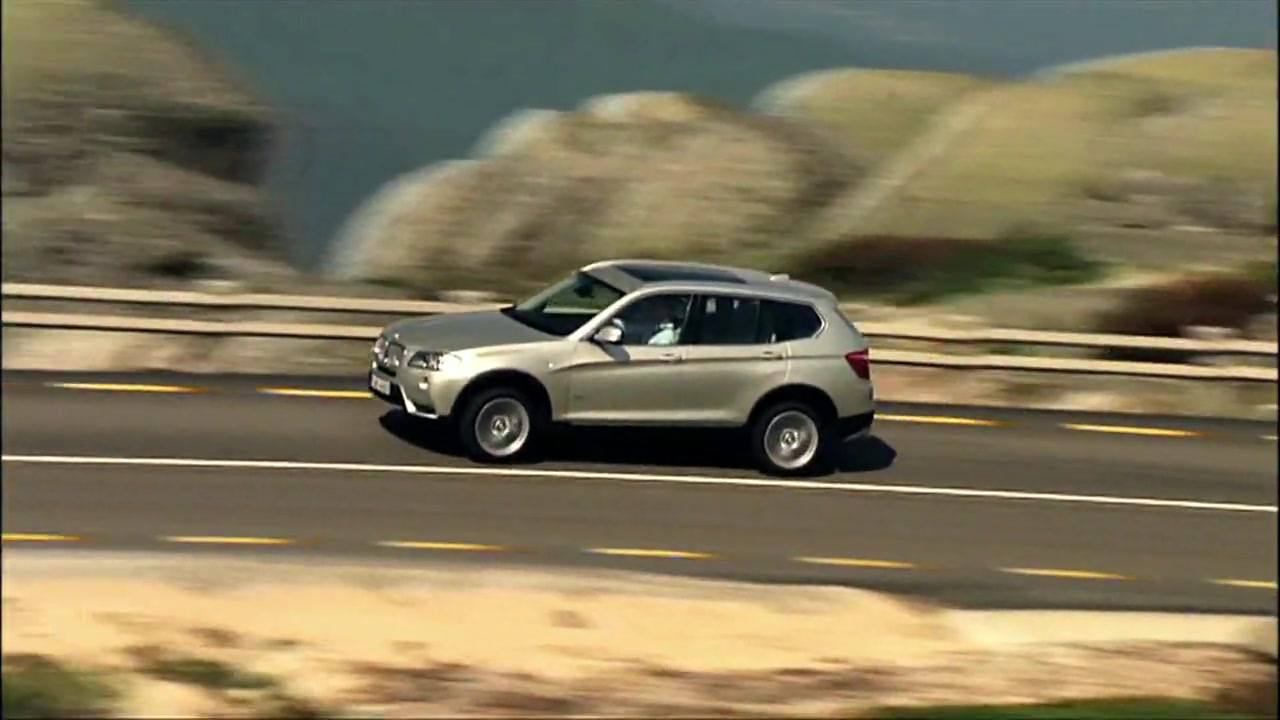car: (373, 259, 883, 481)
